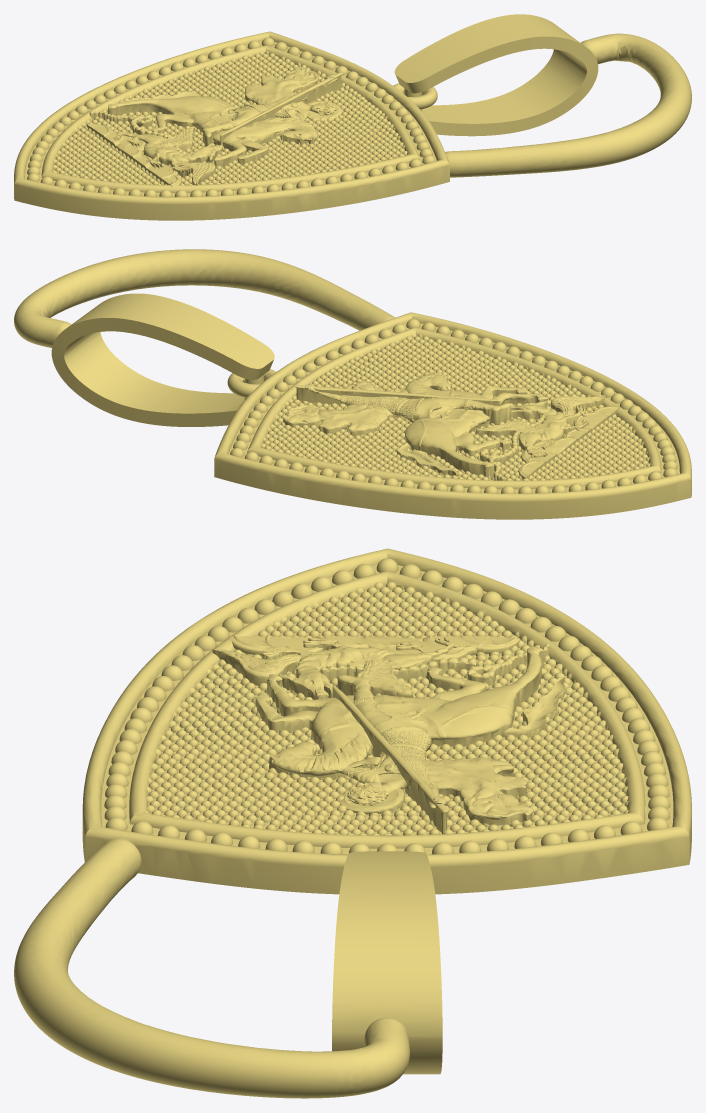
File: shell_01_of_hollow_of_kolye.glb
3 renders of one model, top to bottom at view 1: azimuth 30°, elevation 25°; view 2: azimuth 150°, elevation 25°; view 3: azimuth 270°, elevation 25°, orthographic. The views are drawn at different scales.
Visible parts, largest first — view 1: Renderer Node; view 2: Renderer Node; view 3: Renderer Node.
Boxes of the visible parts, bbox=[...] form: Renderer Node: bbox=[14, 14, 691, 220]; Renderer Node: bbox=[14, 249, 691, 519]; Renderer Node: bbox=[14, 548, 691, 1098].
Size of the model in its own units: 33.24 by 4.64 by 18.42.
